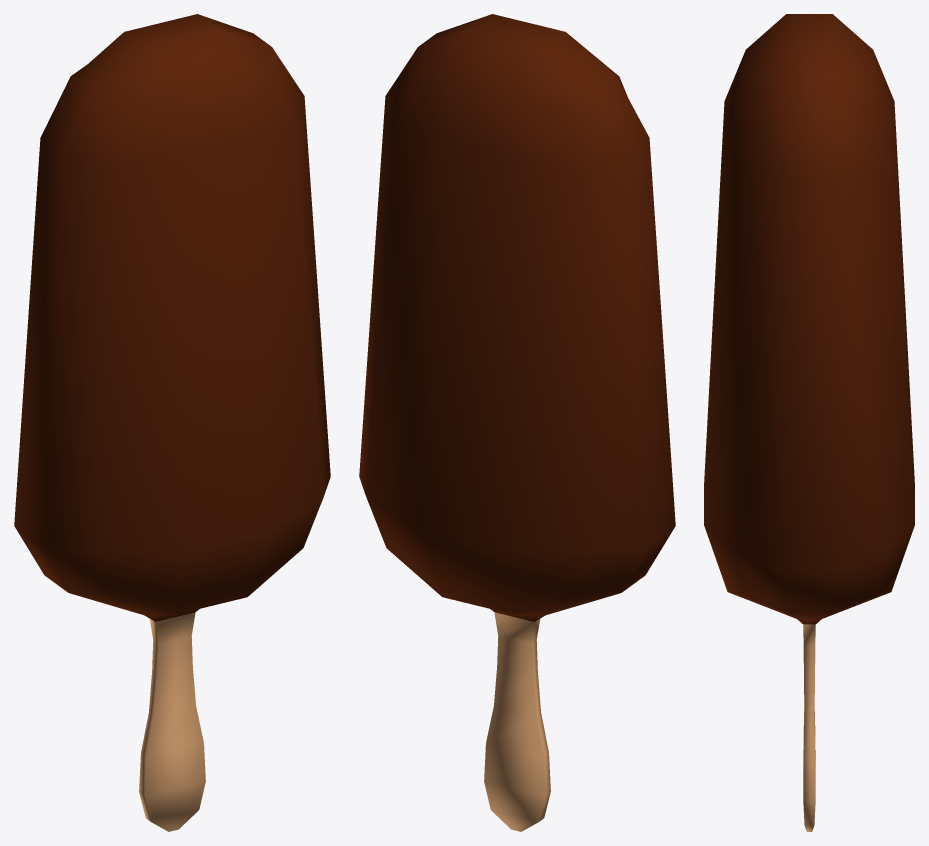
Rendered from Texturizado_Magnum_001.glb.
3 views of the same model, side by side, from view 1: azimuth 30°, elevation 25°; view 2: azimuth 150°, elevation 25°; view 3: azimuth 270°, elevation 25° (orthographic).
Parts seen in each view (by area): view 1: Mesh_Magnum_001; view 2: Mesh_Magnum_001; view 3: Mesh_Magnum_001.
Boxes of the visible parts, left/top/right/bottom form: Mesh_Magnum_001: left=14, top=14, right=330, bottom=831; Mesh_Magnum_001: left=359, top=14, right=675, bottom=831; Mesh_Magnum_001: left=704, top=14, right=914, bottom=831.
Bounding box in the file's own units: 3.68 × 9.77 × 2.34.
